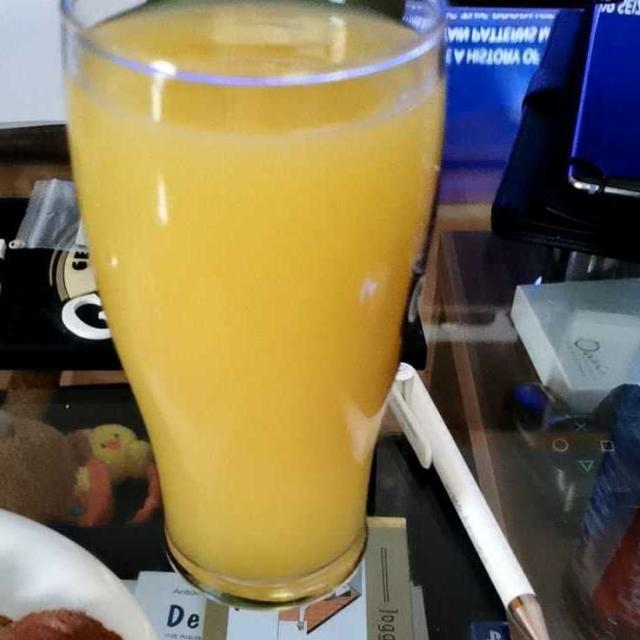juice: (68, 38, 441, 590)
